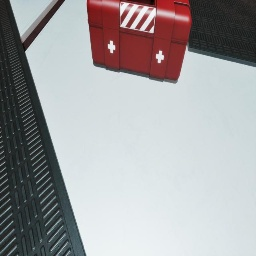FirstAidBox ,: (86, 0, 192, 80)
